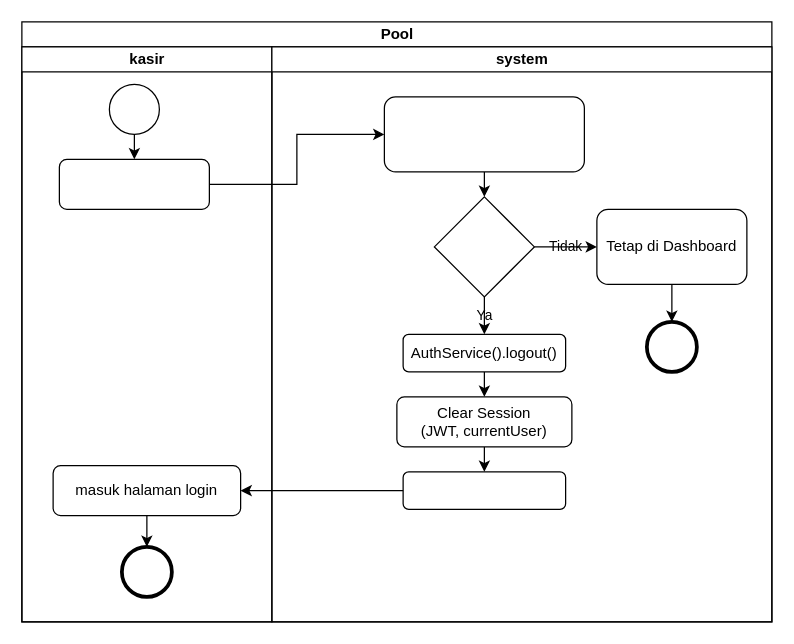
The diagram is 794 pixels wide and 644 high, and some of its shapes have lost their labels. The centre of each missing label's shape, as x and y in pixels:
AppRoutes.logout(context): (483,134)
Klik 'Keluar/Logout': (133,183)
Navigate to /login: (484,490)
Pilih 'Ya'?: (483,246)
